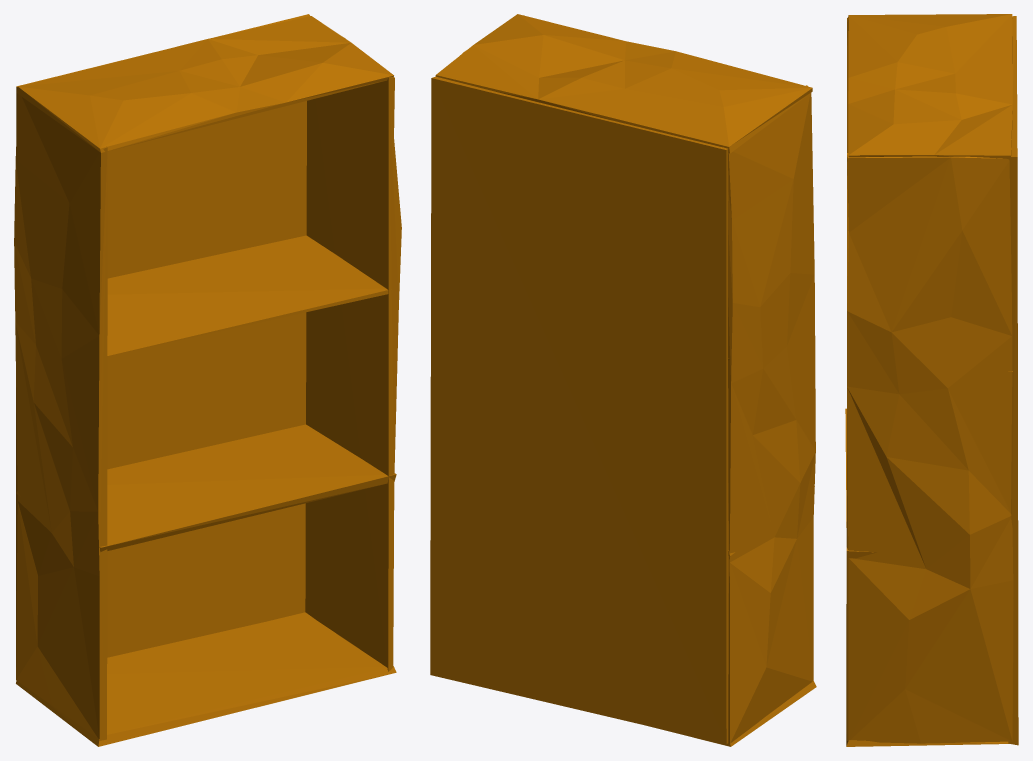
The model's file is stm_env_shelf.fbx.
3 renders of one model, left to right at view 1: azimuth 30°, elevation 25°; view 2: azimuth 150°, elevation 25°; view 3: azimuth 270°, elevation 25°, orthographic.
Visible parts, largest first — view 1: Cube; view 2: Cube; view 3: Cube.
Boxes of the visible parts, x1,y1,x2,y2 form: Cube: [14, 14, 401, 746]; Cube: [430, 14, 816, 746]; Cube: [845, 14, 1018, 746].
Bounding box in the file's own units: 437 × 802 × 210.
